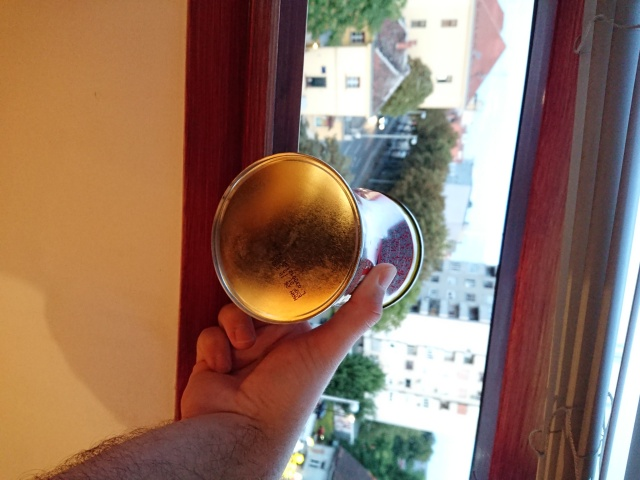Nescafe Classic 225g: (206, 148, 427, 329)
